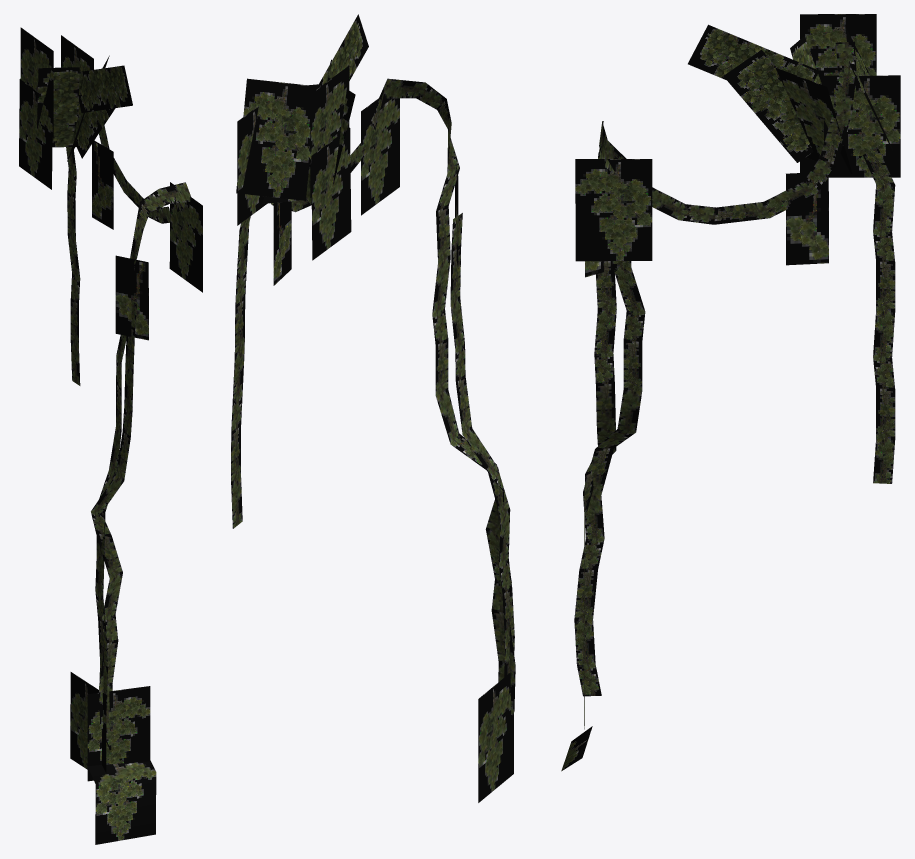
The model's file is eso_gu14_StoneRuins11_Vegetation-transformed.glb.
3 views of the same model, side by side, from view 1: azimuth 30°, elevation 25°; view 2: azimuth 150°, elevation 25°; view 3: azimuth 270°, elevation 25° (orthographic). The views are drawn at different scales.
Parts seen in each view (by area): view 1: default; view 2: default; view 3: default.
Boxes of the visible parts, box(x1,y1,x2,y2) form: default: box(19, 27, 202, 844); default: box(231, 14, 515, 802); default: box(561, 14, 900, 771).
Size of the model in its own units: 5.21 by 28.79 by 10.57.
1 material, 1 textured.
